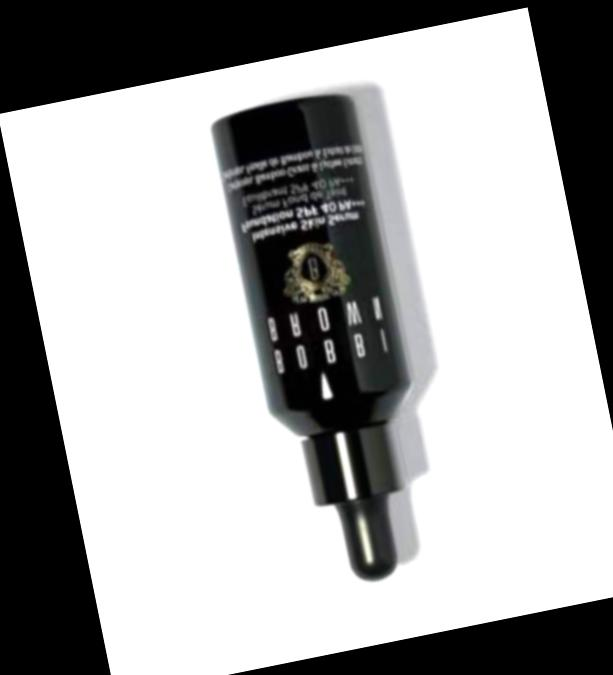cosmetic: (206, 97, 446, 596)
